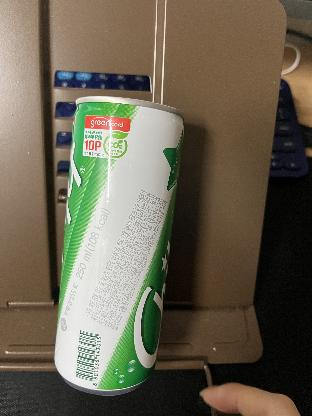Can: (54, 97, 182, 398)
